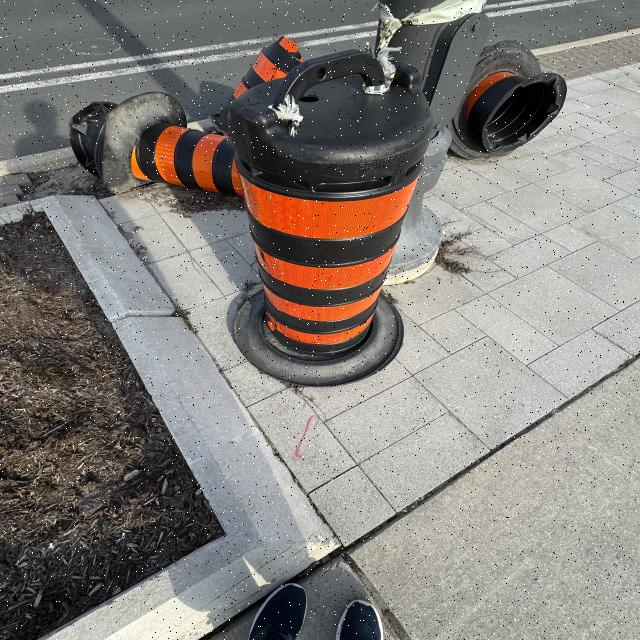Teraffic Barrel: (228, 50, 432, 385), (69, 92, 243, 196), (449, 40, 566, 158), (210, 36, 303, 134)
